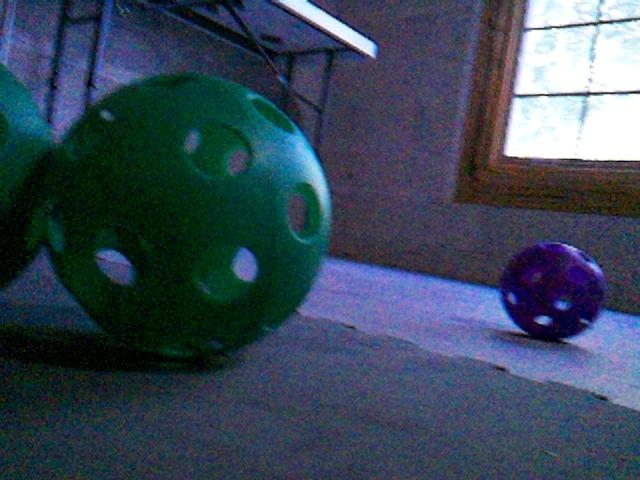Green: (43, 66, 329, 362), (0, 59, 57, 289)
Purple: (497, 240, 608, 341)
